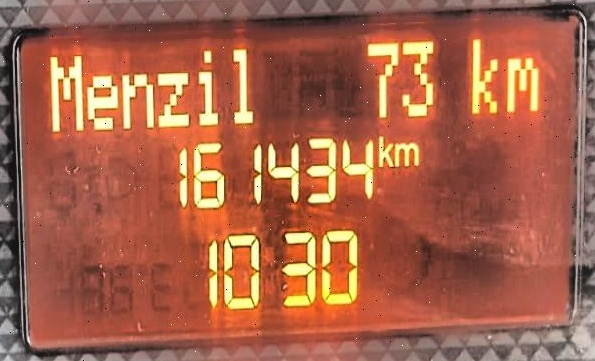0: (222, 228, 261, 319), (319, 229, 358, 311)
1: (200, 234, 218, 317), (173, 136, 190, 222), (251, 138, 266, 217)
3: (278, 223, 316, 313), (400, 33, 437, 123), (305, 136, 334, 208)
4: (337, 129, 374, 202), (266, 136, 302, 209)
6: (193, 139, 225, 217)
7: (362, 29, 400, 119)
X: (46, 50, 82, 135), (468, 33, 499, 118), (194, 42, 223, 130), (505, 51, 542, 112), (229, 41, 254, 131), (117, 71, 154, 130), (84, 70, 115, 131), (160, 70, 188, 129), (373, 133, 393, 171), (394, 140, 419, 170)
